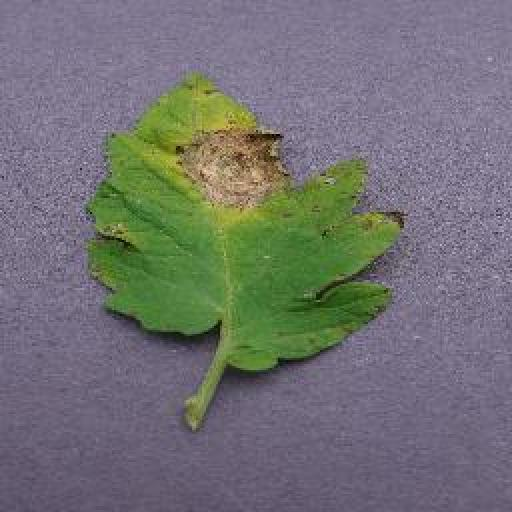Septoria: (90, 77, 403, 376)
